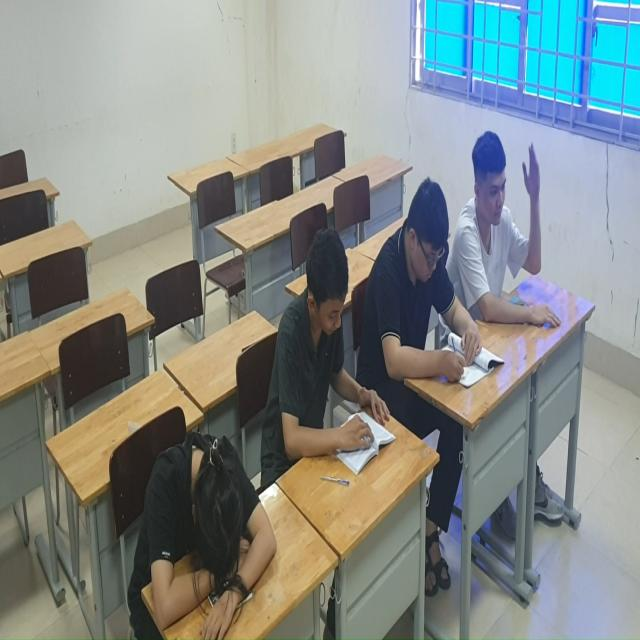raise_hand: (463, 128, 560, 322)
read: (262, 222, 394, 481), (373, 178, 485, 425)
sleep: (124, 439, 295, 640)
